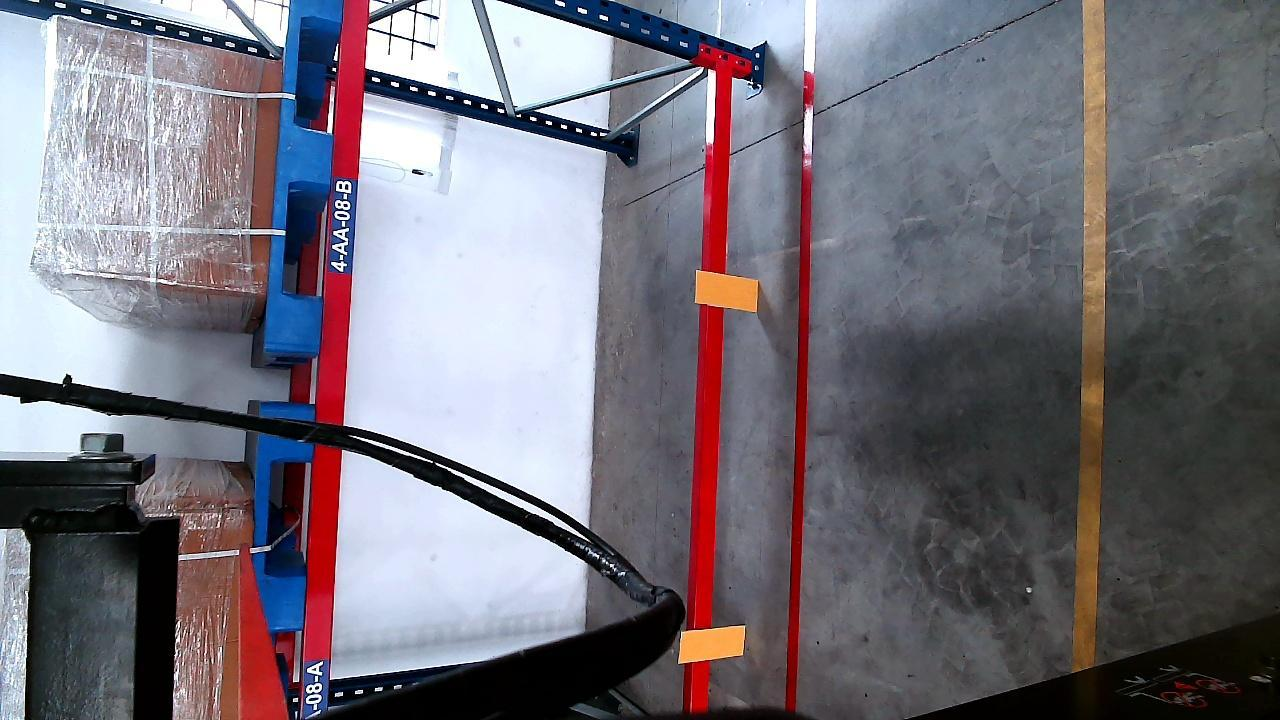red_line: (783, 0, 815, 710)
yellow_line: (1078, 0, 1102, 672)
